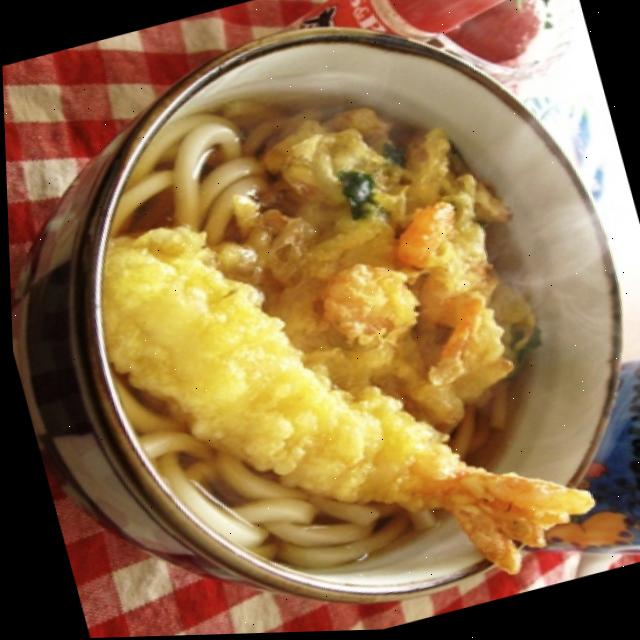面条主食: (34, 15, 629, 635)
